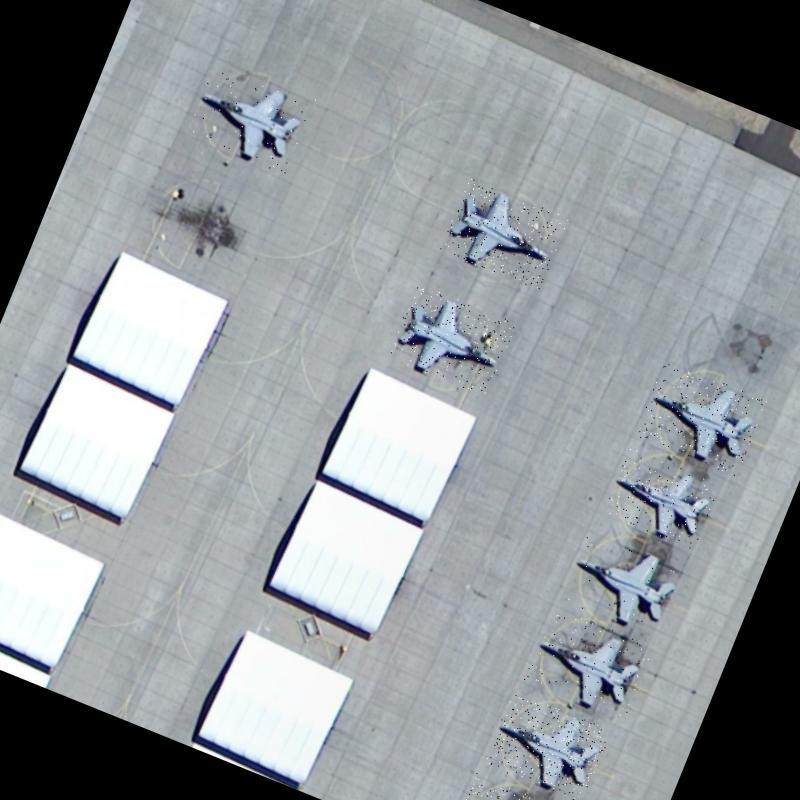A16: (184, 58, 318, 177), (634, 359, 768, 477), (522, 606, 653, 722), (386, 282, 516, 397), (438, 178, 568, 292), (560, 524, 688, 639), (483, 690, 612, 800), (602, 447, 720, 550), (446, 772, 568, 800)
